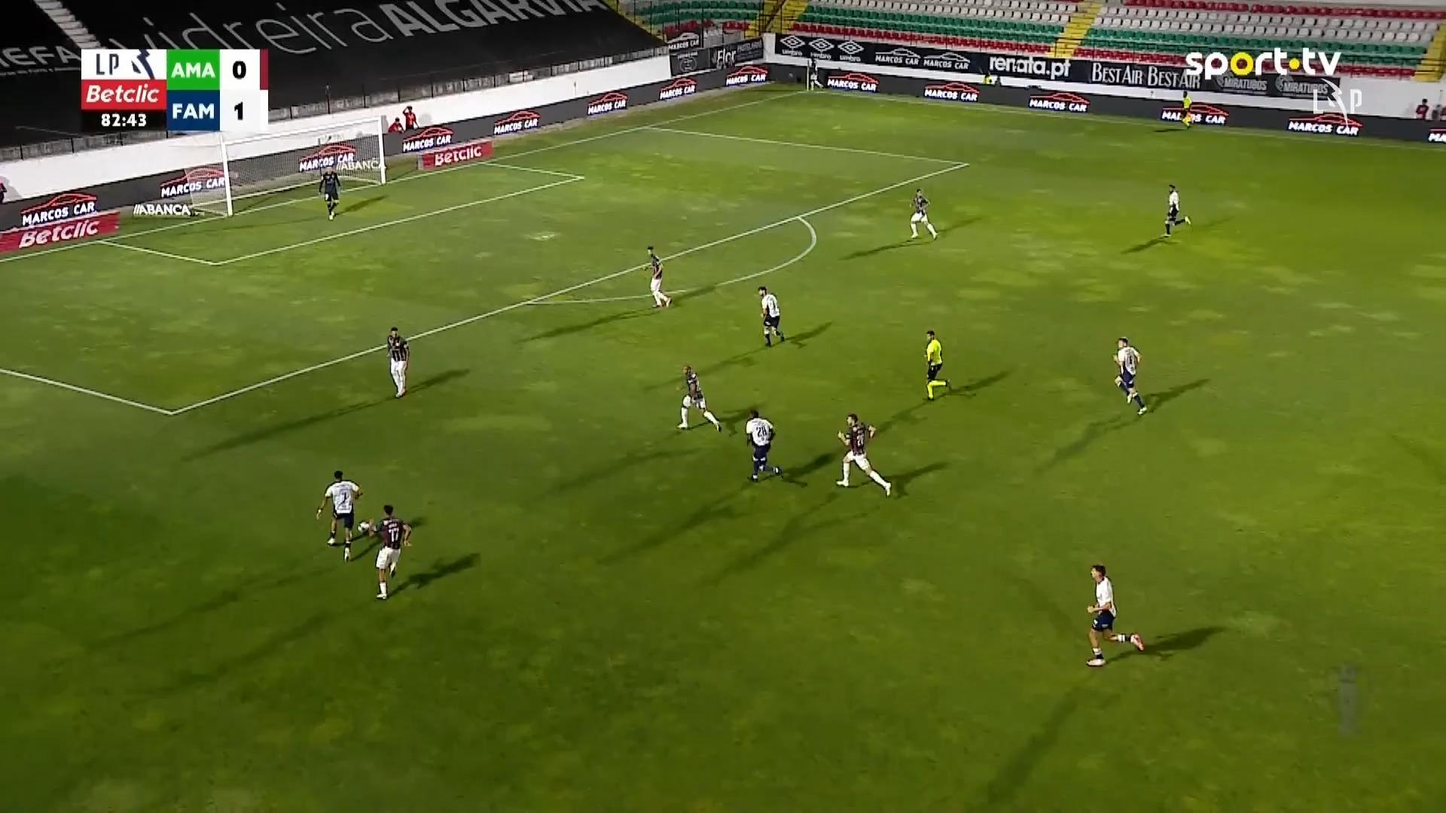ball: (357, 519, 370, 532)
goalkeeper: (317, 165, 341, 220)
player: (1084, 563, 1144, 666), (357, 504, 413, 600), (834, 413, 892, 498), (315, 470, 363, 562), (676, 364, 722, 432), (1112, 336, 1147, 416), (744, 409, 782, 482), (385, 325, 410, 398), (756, 285, 785, 347), (645, 245, 671, 308), (1162, 183, 1191, 238), (908, 187, 938, 240)
referee: (923, 328, 951, 400), (1179, 89, 1192, 129)
